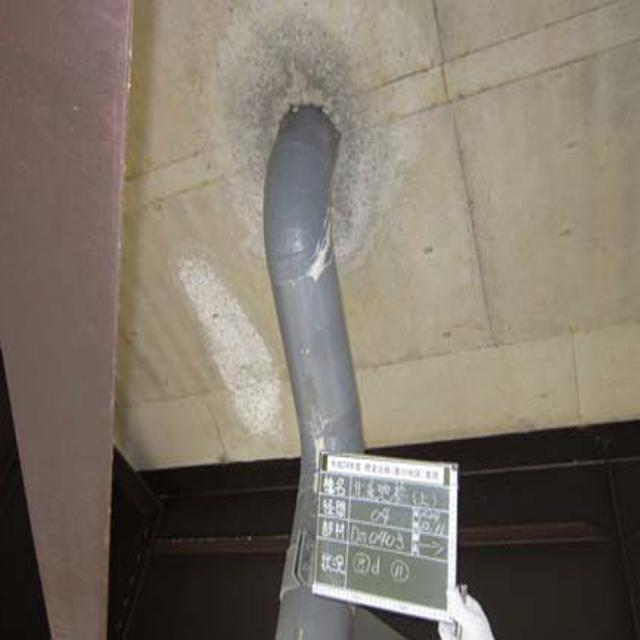freelime: (177, 238, 286, 462)
